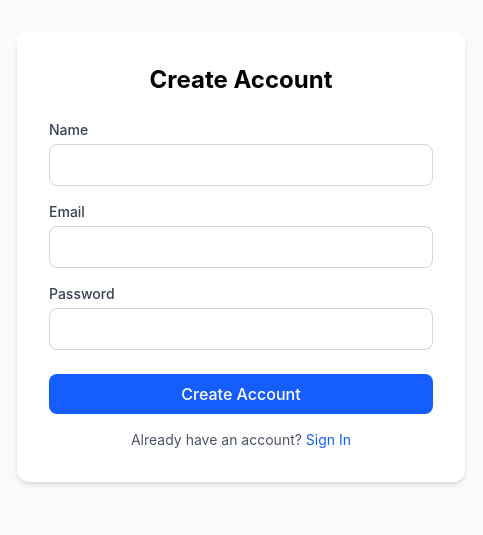
RegisterPage › shows client-side validation for short password
Type "Test User" into the field labelled "Name". click: (241, 165)
box: x1=49 y1=144 x2=433 y2=186
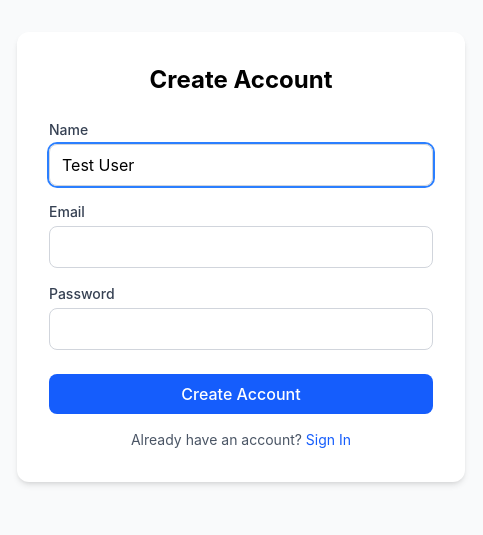
Type "test@example.com" into the field labelled "Email". click: (241, 247)
box: x1=49 y1=226 x2=433 y2=268
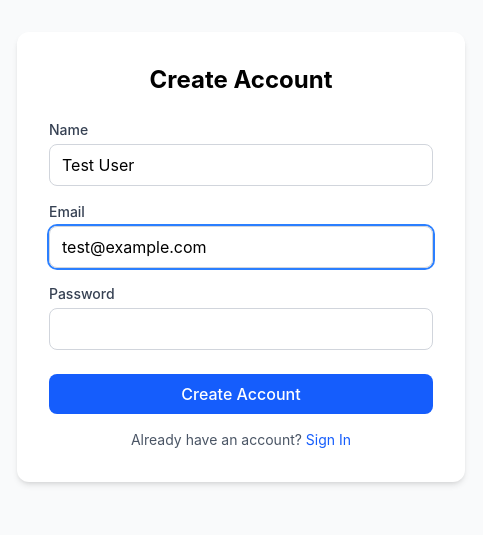
Type "12345" into the password field labelled "Password". click: (241, 329)
box: x1=49 y1=308 x2=433 y2=350
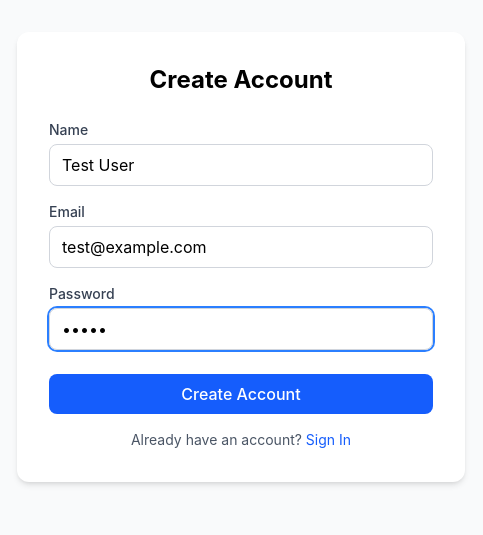
Click the button "Create Account". click: (241, 394)
box: x1=49 y1=374 x2=433 y2=414
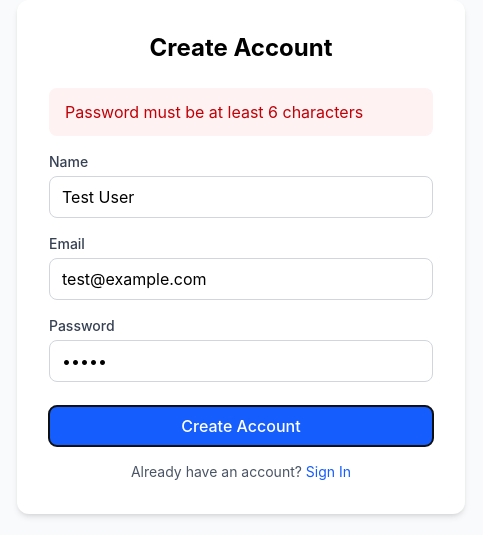
Expected: the text "Password must be at least 6 characters" is shown, x1=49 y1=88 x2=433 y2=136
